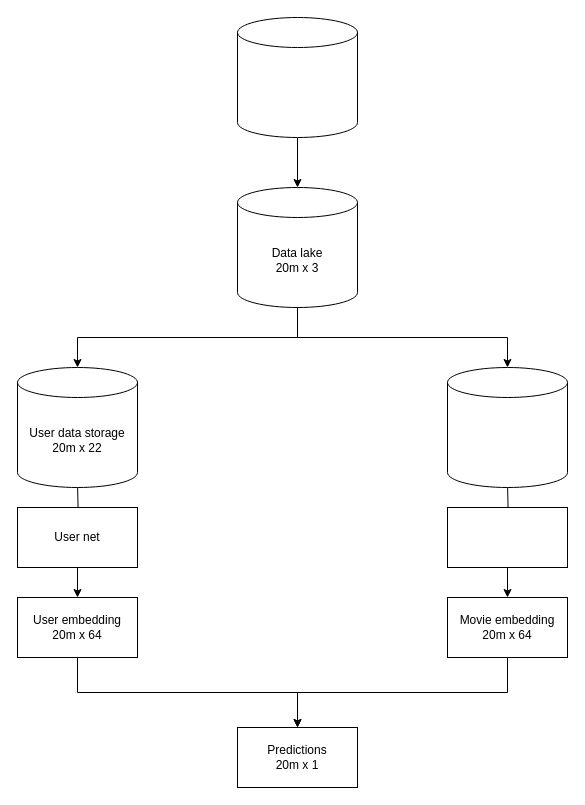
Image size: 585x805. Some labels were removed from this diagram. The shapes that lost their labels are listed below. From the top down, each one's centre as x and y in pixels, then its label:
point 297,77: Raw data 32m x 3
point 507,427: Movie data storage 20m x 25
point 507,537: Movie net
